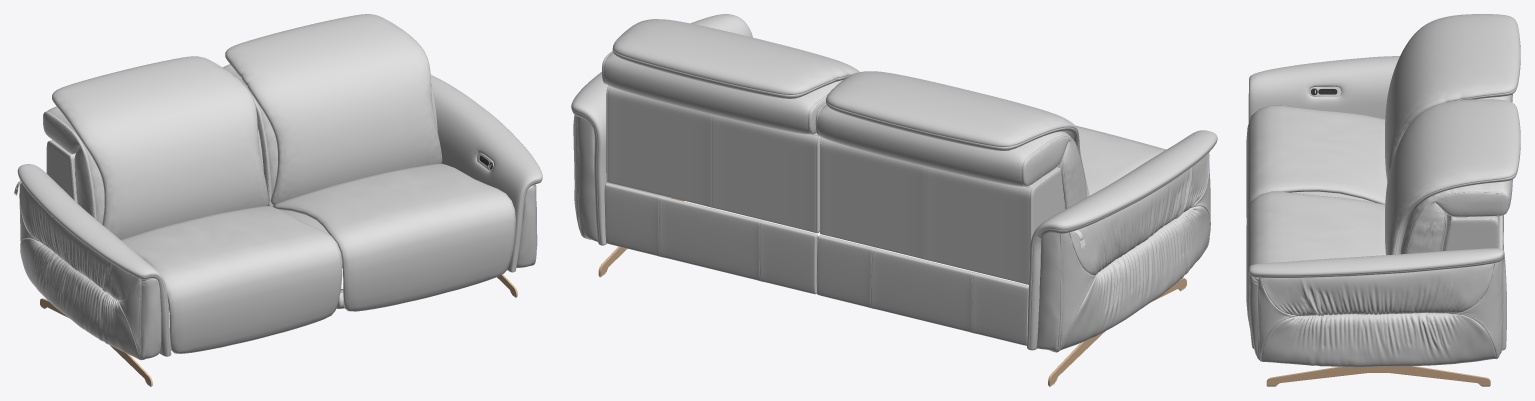
The model's file is SBH_HUDSON_2.5_Seater.glb.
3 views of the same model, side by side, from view 1: azimuth 30°, elevation 25°; view 2: azimuth 150°, elevation 25°; view 3: azimuth 270°, elevation 25° (orthographic). The views are drawn at different scales.
Visible parts, largest first — view 1: HUDSON_2.5_Seater; view 2: HUDSON_2.5_Seater; view 3: HUDSON_2.5_Seater.
Boxes of the visible parts, x1=… form: HUDSON_2.5_Seater: x1=14, y1=14, x2=542, y2=386; HUDSON_2.5_Seater: x1=571, y1=14, x2=1217, y2=386; HUDSON_2.5_Seater: x1=1246, y1=14, x2=1520, y2=386.
Size of the model in its own units: 2.02 by 0.9142 by 1.1.
